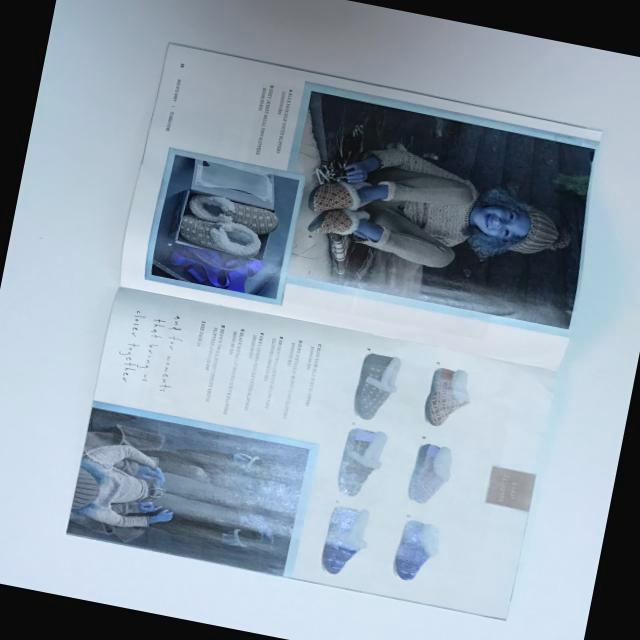paper: (38, 23, 632, 632)
